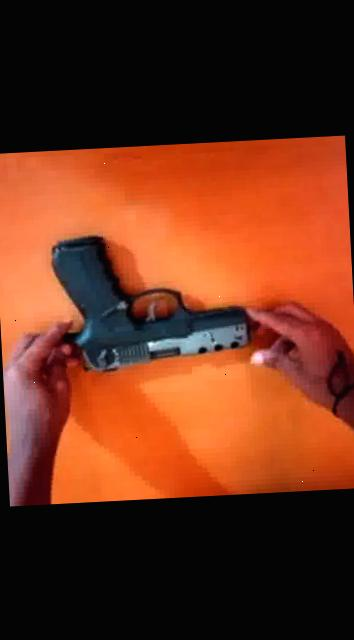pistol: (48, 226, 258, 374)
